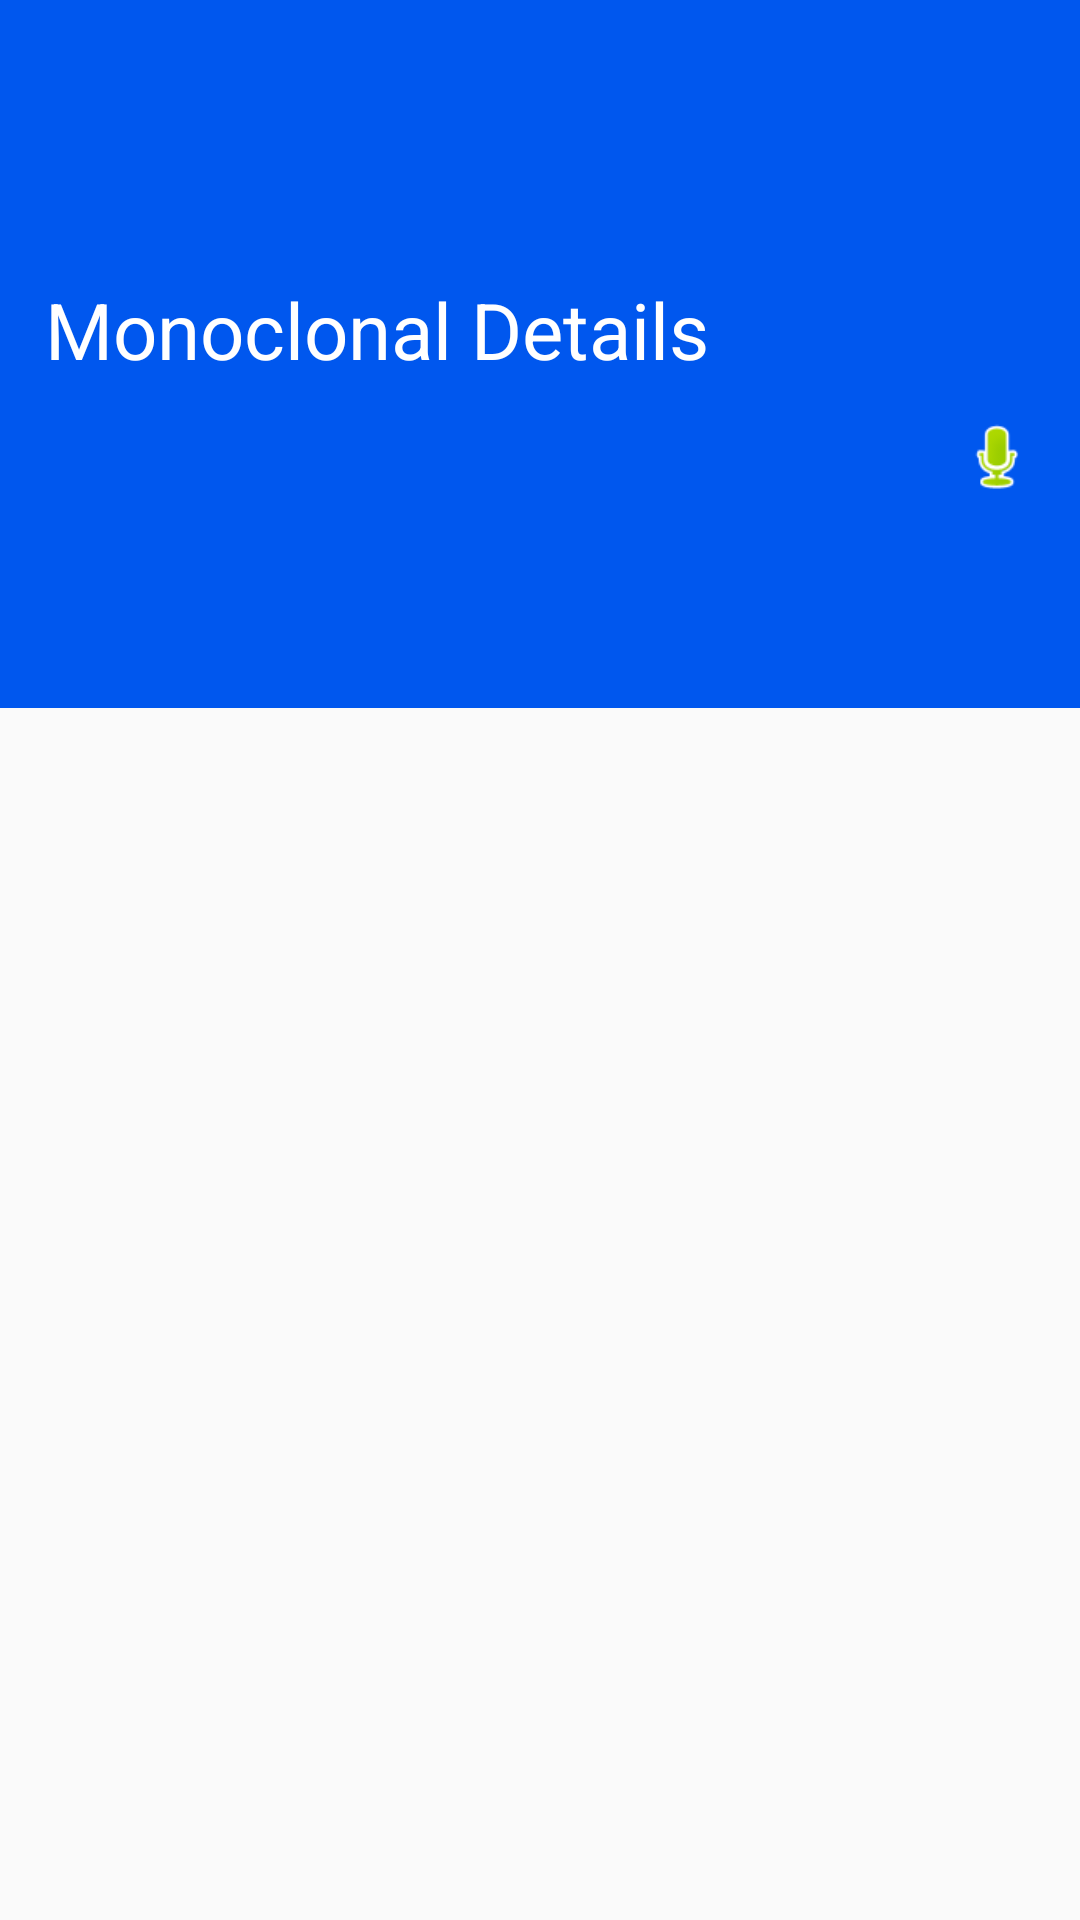

Screen size 1080 x 1920. Icon name, then its box in pixels as (x1, y1, x2, y2):
presence audio online: (976, 425, 1018, 489)
